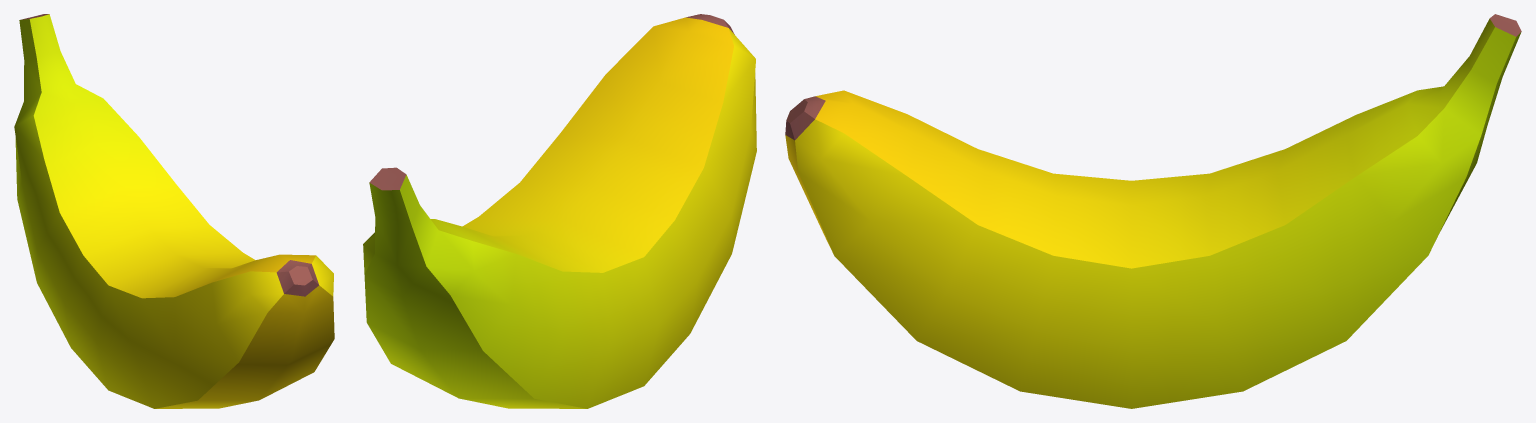
The model's file is Banana_01.fbx.
3 renders of one model, left to right at view 1: azimuth 30°, elevation 25°; view 2: azimuth 150°, elevation 25°; view 3: azimuth 270°, elevation 25°, orthographic. The views are drawn at different scales.
Visible parts, largest first — view 1: Banana_01; view 2: Banana_01; view 3: Banana_01.
Boxes of the visible parts, x1,y1,x2,y2 form: Banana_01: (14,14,334,408); Banana_01: (363,14,756,408); Banana_01: (785,14,1521,408).
Size of the model in its own units: 0.2451 by 0.404 by 0.7372.
